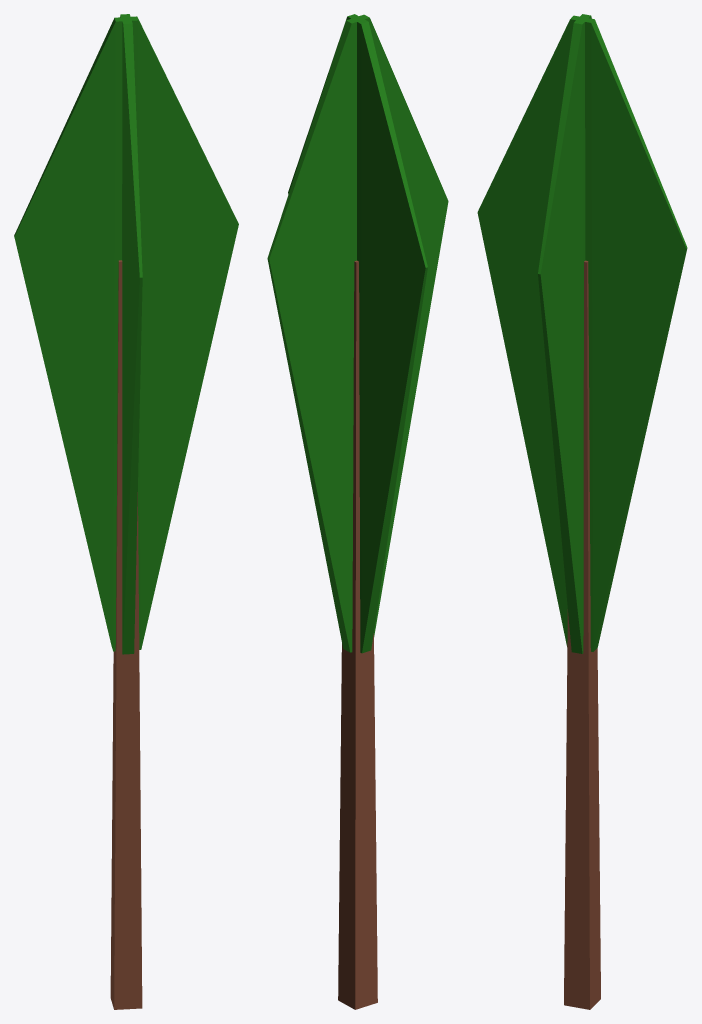
File: Tree_32_summer_mat.fbx
3 views of the same model, side by side, from view 1: azimuth 30°, elevation 25°; view 2: azimuth 150°, elevation 25°; view 3: azimuth 270°, elevation 25° (orthographic).
Parts seen in each view (by area): view 1: Tree_32_summer_mat; view 2: Tree_32_summer_mat; view 3: Tree_32_summer_mat.
Part boxes in pixels (box(x1,y1,x2,y2)): Tree_32_summer_mat: box(14, 14, 238, 1009); Tree_32_summer_mat: box(267, 14, 448, 1009); Tree_32_summer_mat: box(477, 14, 687, 1009).
Bounding box in the file's own units: 1.96 × 10.12 × 1.96.
